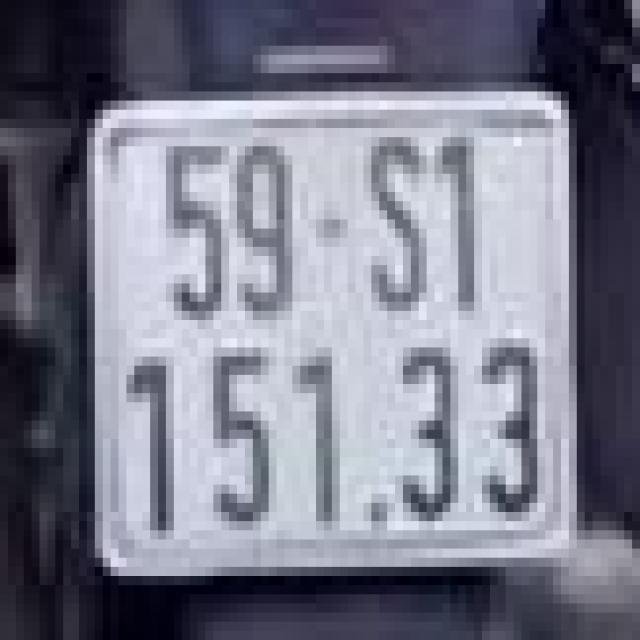1: (110, 343, 190, 553), (284, 338, 356, 530), (431, 114, 494, 325)
3: (470, 334, 549, 526), (395, 334, 466, 526)
5: (202, 338, 280, 540), (150, 128, 229, 320)
9: (233, 137, 296, 329)
S: (356, 119, 426, 320)
